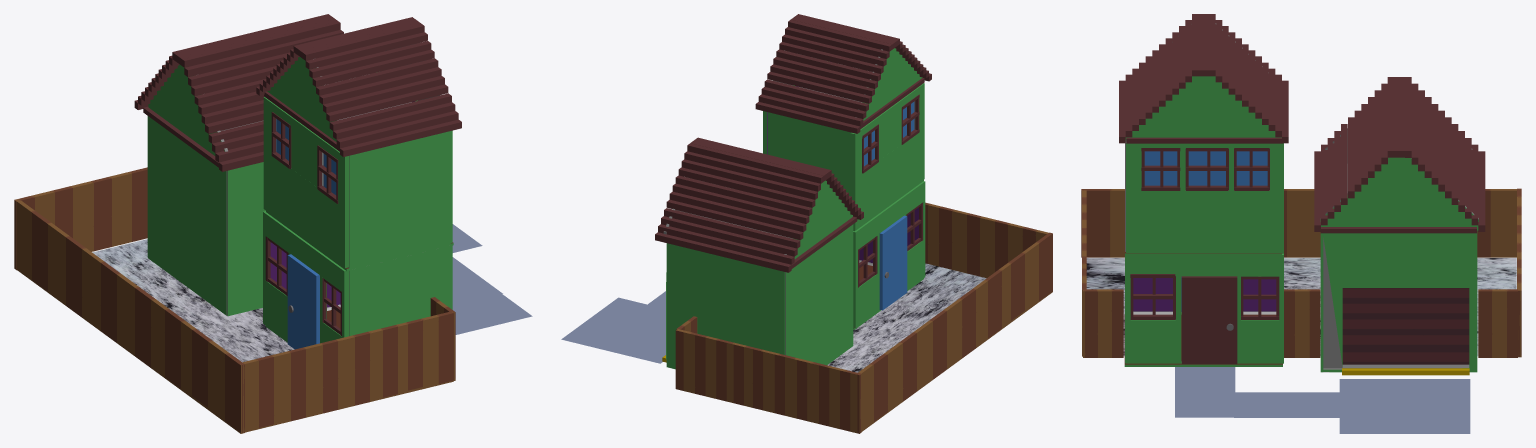
Rendered from casa.obj.
The picture shows the model from 3 angles, left to right: view 1: azimuth 30°, elevation 25°; view 2: azimuth 150°, elevation 25°; view 3: azimuth 270°, elevation 25°; orthographic projection. The views are drawn at different scales.
Visible parts, largest first — view 1: pasted__pasted__pCube5 pasted__group33 group99, group14_pasted__group12_pasted__pasted__group11_pasted__pasted__, pasted__pCube5 group33, pasted__group14_pasted__group12_pasted__pasted__group11_pasted__, pasted__pasted__pCube2 pasted__group2 group8, pasted__pasted__pCube1 pasted__group group24, polySurface22 pasted__pasted__pasted__pasted__pCube12 pasted__pa, polySurface9, pPlane1, pasted__pCube2 group2, pasted__pasted__pasted__pCube1 pasted__pasted__group pasted__gro, pasted__pCube12 group105 (+9 smaller); view 2: pasted__group14_pasted__group12_pasted__pasted__group11_pasted__, pasted__pasted__pCube5 pasted__group33 group99, group14_pasted__group12_pasted__pasted__group11_pasted__pasted__, polySurface9, pasted__pasted__pasted__pCube1 pasted__pasted__group pasted__gro, pasted__pasted__pCube1 pasted__group group24, polySurface22 pasted__pasted__pasted__pasted__pCube12 pasted__pa, pasted__pCube5 group33, pPlane1, pPlane2, pasted__pasted__pasted__pCube2 pasted__pasted__group2 pasted__gr, pasted__pCube12 group105 (+4 smaller); view 3: pasted__pasted__pasted__pCube12 pasted__pasted__group101 pasted_, pasted__group14_pasted__group12_pasted__pasted__group11_pasted__, group27_pasted__group24_pasted__pasted__group_pasted__pasted__pa, group14_pasted__group12_pasted__pasted__group11_pasted__pasted__, polySurface5 group27_pasted__group24_pasted__pasted__group_paste, polySurface20 pCube12, pasted__pasted__pCube5 pasted__group33 group99, pPlane2, pasted__pasted__pasted__pasted__pCube1 pasted__pasted__pasted__g, pasted__pasted__pasted__pCube5 pasted__pasted__group33 pasted__g, pCube4, pCube13 (+14 smaller).
Part boxes in pixels (x1,y1,x2,y2): pasted__pasted__pCube5 pasted__group33 group99: (15, 199, 244, 433); group14_pasted__group12_pasted__pasted__group11_pasted__pasted__: (256, 17, 461, 156); pasted__pCube5 group33: (242, 311, 453, 432); pasted__group14_pasted__group12_pasted__pasted__group11_pasted__: (134, 14, 343, 171); pasted__pasted__pCube2 pasted__group2 group8: (348, 131, 450, 268); pasted__pasted__pCube1 pasted__group group24: (148, 116, 227, 315); polySurface22 pasted__pasted__pasted__pasted__pCube12 pasted__pa: (263, 97, 348, 268); polySurface9: (14, 167, 147, 270); pPlane1: (92, 239, 294, 362); pasted__pCube2 group2: (349, 245, 450, 336); pasted__pasted__pasted__pCube1 pasted__pasted__group pasted__gro: (147, 116, 265, 316); pasted__pCube12 group105: (263, 211, 348, 343); pasted__group14_pasted__group12_pasted__pasted__group11_pasted__: (655, 137, 863, 272); pasted__pasted__pCube5 pasted__group33 group99: (856, 232, 1052, 431); group14_pasted__group12_pasted__pasted__group11_pasted__pasted__: (755, 14, 931, 133); polySurface9: (675, 329, 861, 433); pasted__pasted__pasted__pCube1 pasted__pasted__group pasted__gro: (666, 243, 785, 369); pasted__pasted__pCube1 pasted__group group24: (785, 224, 853, 365); polySurface22 pasted__pasted__pasted__pasted__pCube12 pasted__pa: (850, 83, 924, 229); pasted__pCube5 group33: (925, 202, 1048, 278); pPlane1: (827, 263, 986, 372); pPlane2: (561, 297, 665, 363); pasted__pasted__pasted__pCube2 pasted__pasted__group2 pasted__gr: (768, 112, 852, 196); pasted__pCube12 group105: (853, 181, 925, 327); pasted__pasted__pasted__pCube12 pasted__pasted__group101 pasted_: (1126, 143, 1283, 253); pasted__group14_pasted__group12_pasted__pasted__group11_pasted__: (1314, 77, 1485, 231); group27_pasted__group24_pasted__pasted__group_pasted__pasted__pa: (1323, 233, 1474, 372); group14_pasted__group12_pasted__pasted__group11_pasted__pasted__: (1119, 14, 1288, 143); polySurface5 group27_pasted__group24_pasted__pasted__group_paste: (1342, 288, 1469, 364); polySurface20 pCube12: (1126, 253, 1283, 363); pasted__pasted__pCube5 pasted__group33 group99: (1081, 189, 1519, 257); pPlane2: (1339, 379, 1470, 433); pasted__pasted__pasted__pasted__pCube1 pasted__pasted__pasted__g: (1320, 157, 1478, 230); pasted__pasted__pasted__pCube5 pasted__pasted__group33 pasted__g: (1083, 289, 1517, 357); pCube4: (1125, 76, 1281, 139); pCube13: (1181, 276, 1237, 364).
Bounding box in the file's own units: 21.24 × 16.68 × 22.18.
38 materials, 37 textured.
